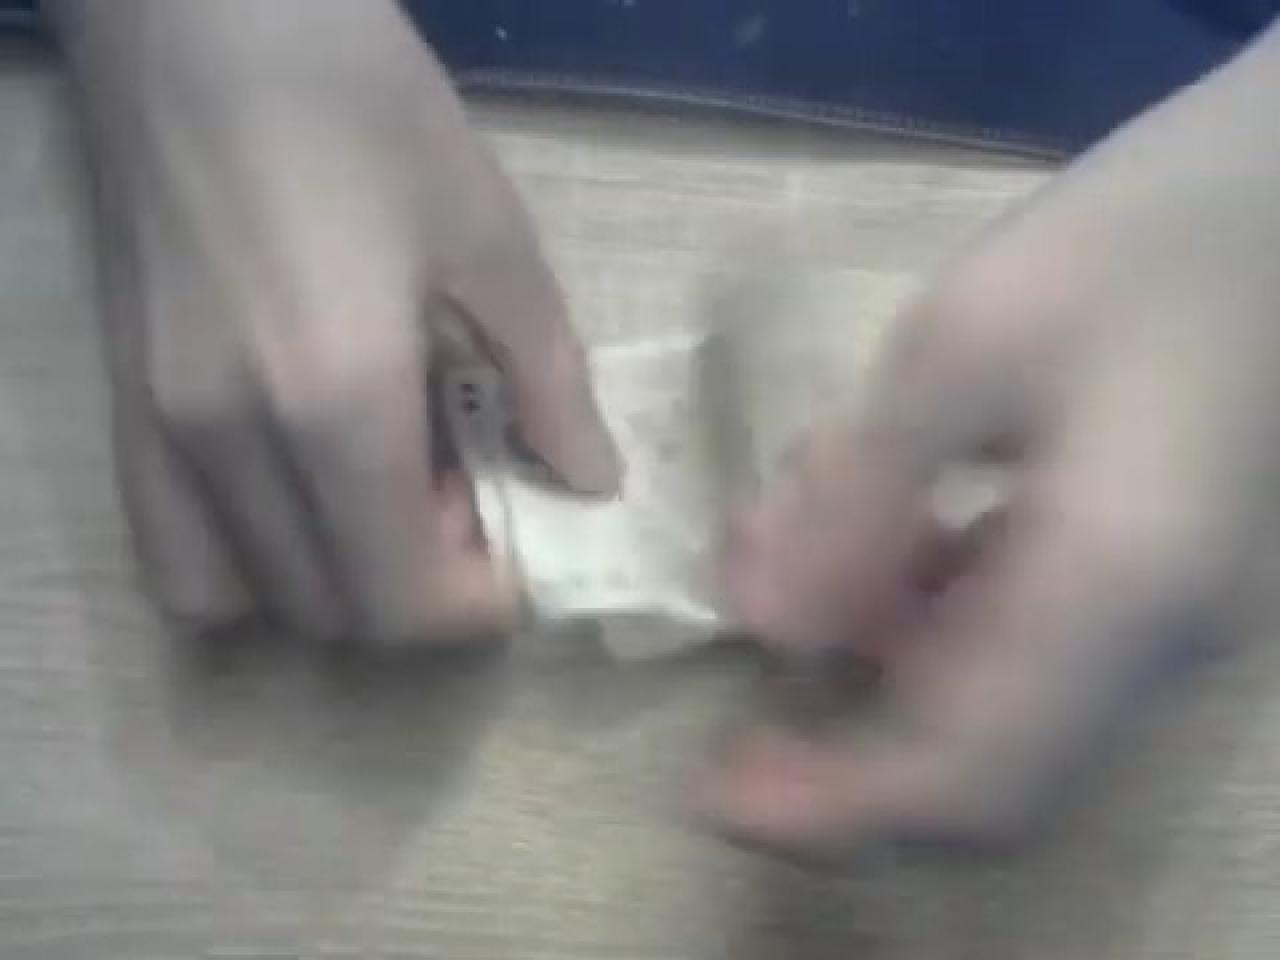10leva: (592, 331, 763, 634)
